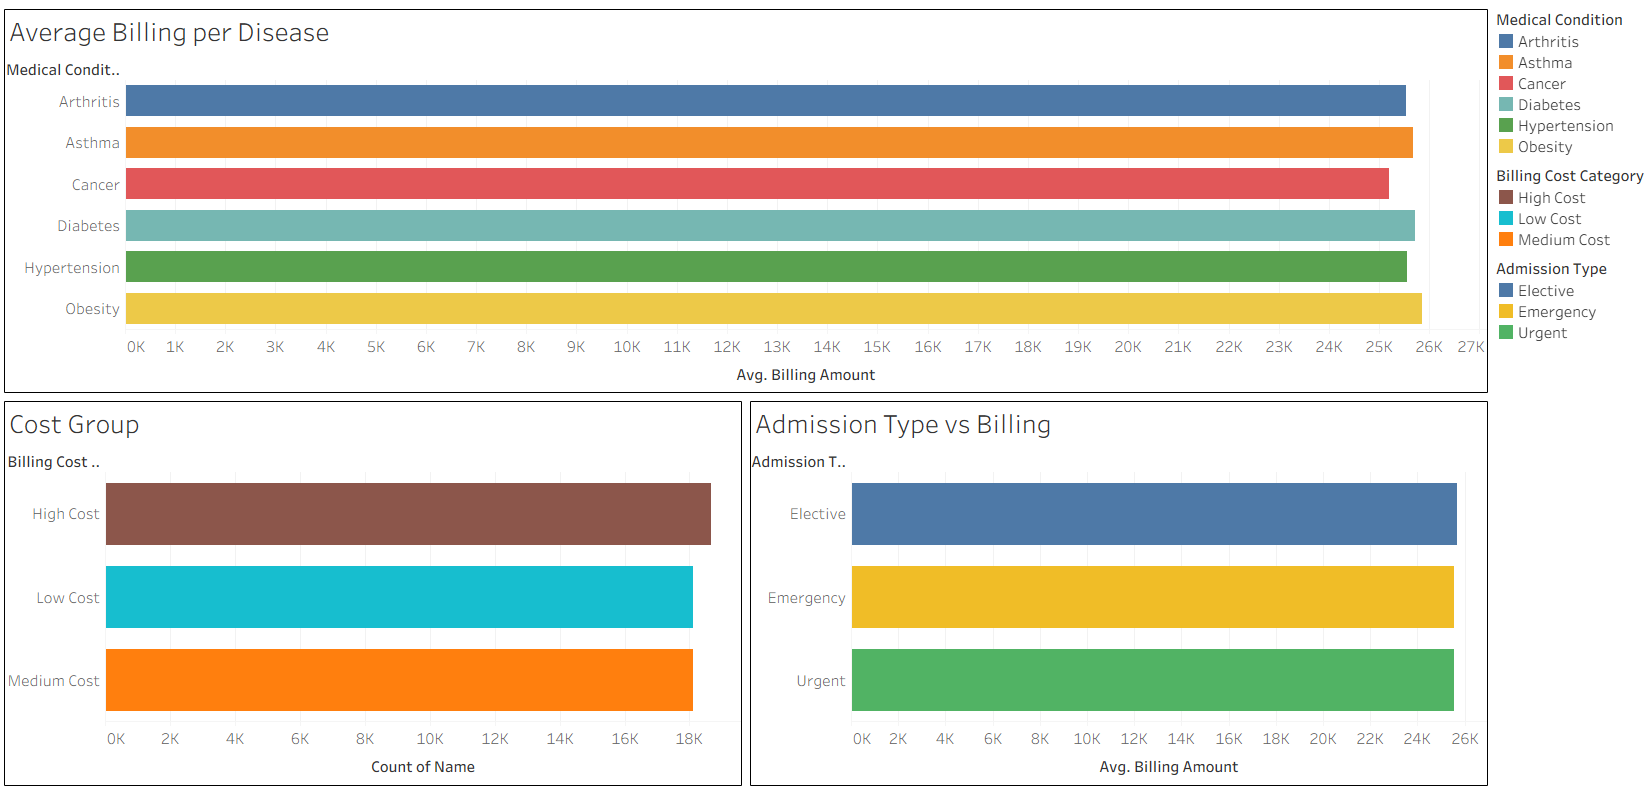

Layout of this report page (visuals, bound fields, positions):
{"tool":"tableau","page":{"name":"Cost & Risk Analysis","canvas":[1000,1000],"units":"permille","ordinal":0},"visuals":[{"type":"worksheet","title":"Average Billing per Disease","mark":"Automatic","rows":["Medical Condition"],"cols":["Billing Amount"],"box":[4.8,10,894.5,490]},{"type":"legend","title":"Average Billing per Disease","param":"[federated.03pwkqy1fpqkej1cl8zf21kyw86q].[none:Medical Condition:nk]","box":[899.3,10,95.9,194.8]},{"type":"legend","title":"Cost Group","param":"[federated.03pwkqy1fpqkej1cl8zf21kyw86q].[none:Calculation_1175721006288420867:n","box":[899.3,204.8,95.9,116.1]},{"type":"legend","title":"Admission Type vs Billing","param":"[federated.03pwkqy1fpqkej1cl8zf21kyw86q].[none:Admission Type:nk]","box":[899.3,320.9,95.9,116.1]},{"type":"worksheet","title":"Cost Group","mark":"Bar","rows":["Calculation_1175721006288420867"],"cols":["Name"],"box":[4.8,500,447.2,490]},{"type":"worksheet","title":"Admission Type vs Billing","mark":"Automatic","rows":["Admission Type"],"cols":["Billing Amount"],"box":[452,500,447.2,490]}]}

Visuals, with their boxes on the dashboard's canvas, which has no fixed pixel size, in thousandths of its width and height (x1, y1, x2, y2). These are canvas units, not pixel positions in the 1648x795 screenshot, which may show the page scaled, cropped or inside an application window:
"Average Billing per Disease" worksheet: [x1=5, y1=10, x2=899, y2=500]
"Average Billing per Disease" legend: [x1=899, y1=10, x2=995, y2=205]
"Cost Group" legend: [x1=899, y1=205, x2=995, y2=321]
"Admission Type vs Billing" legend: [x1=899, y1=321, x2=995, y2=437]
"Cost Group" worksheet (Bar marks): [x1=5, y1=500, x2=452, y2=990]
"Admission Type vs Billing" worksheet: [x1=452, y1=500, x2=899, y2=990]
